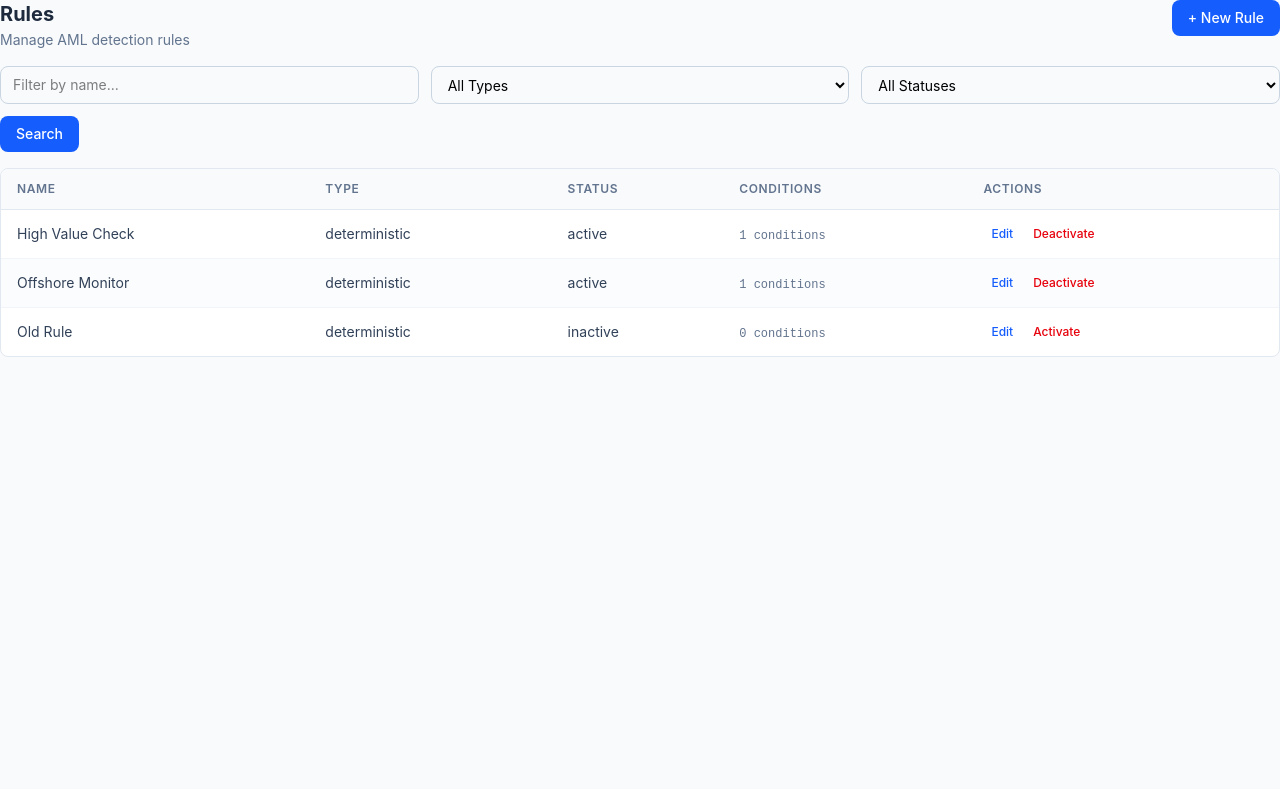
Test: RulesPage › opens edit form on Edit button click
This screenshot has width=1280, height=789.
Check: the text "High Value Check" is shown, box [1, 210, 309, 258]
Click the button "Edit" in the row of "High Value Check" at (1002, 234), box [983, 222, 1021, 246]
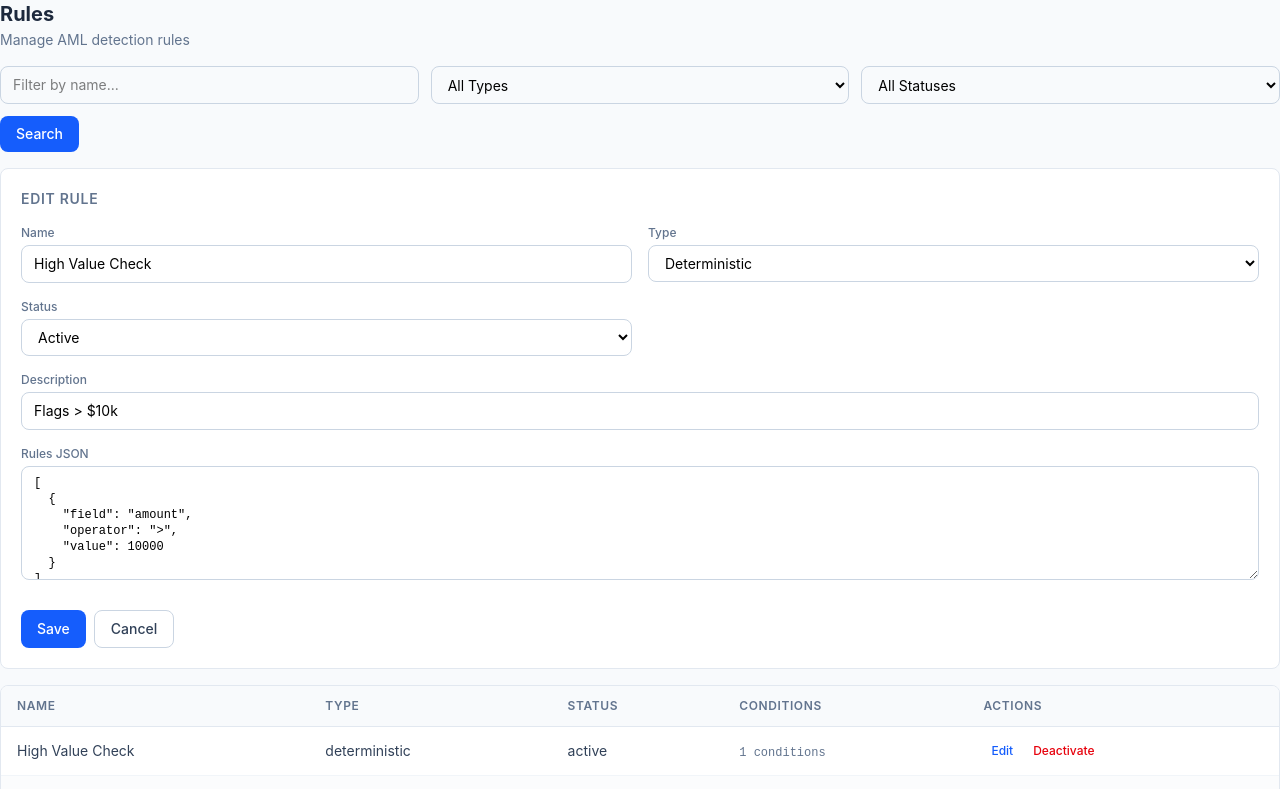
Check: the heading "Edit Rule" is shown, box [21, 190, 98, 207]
